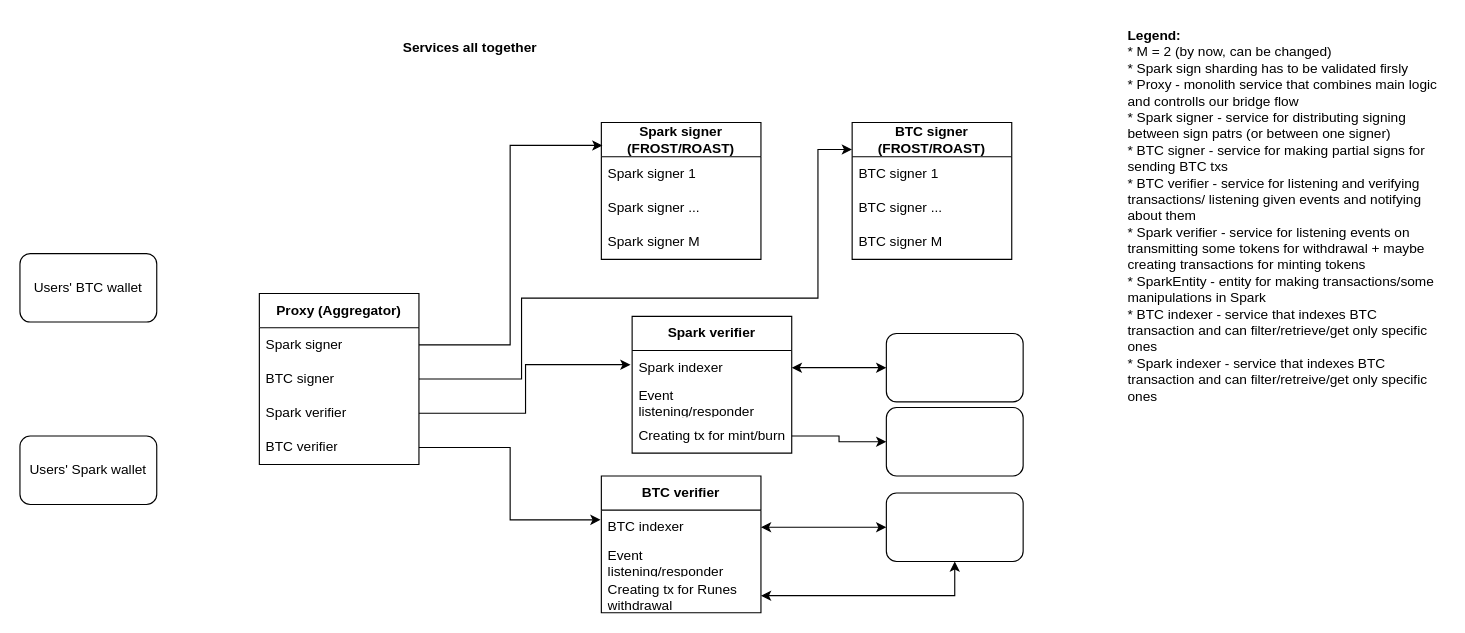
The diagram is 1465 pixels wide and 633 high, and some of its shapes have lost their labels. Here are the shapes that lost their labels. From the top down, the centre of each, then its label:
the point at 954,367: Spark node
the point at 954,441: SparkEntity
the point at 954,526: BTC node
